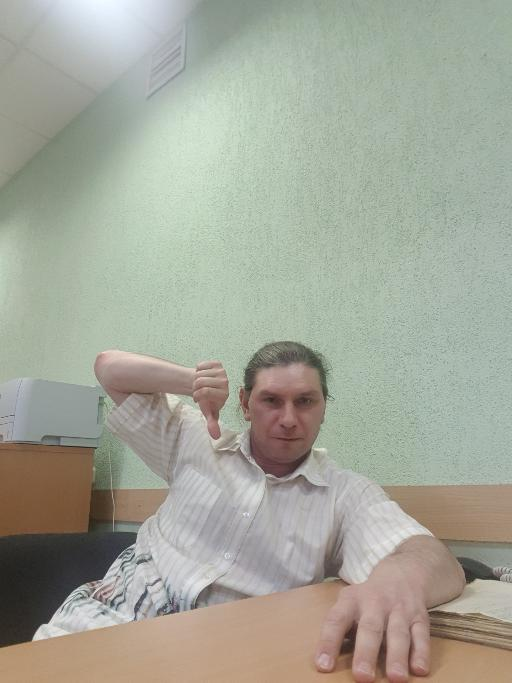dislike: (189, 358, 231, 440)
no_gesture: (313, 574, 435, 680)
